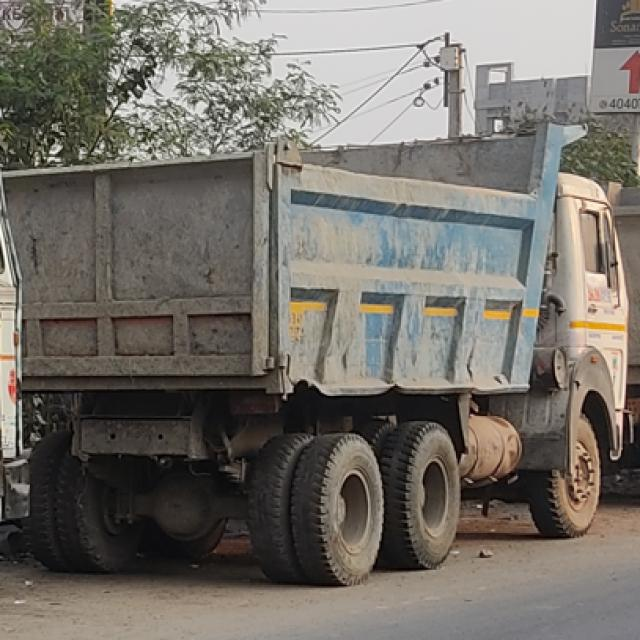truck: (4, 44, 614, 561)
